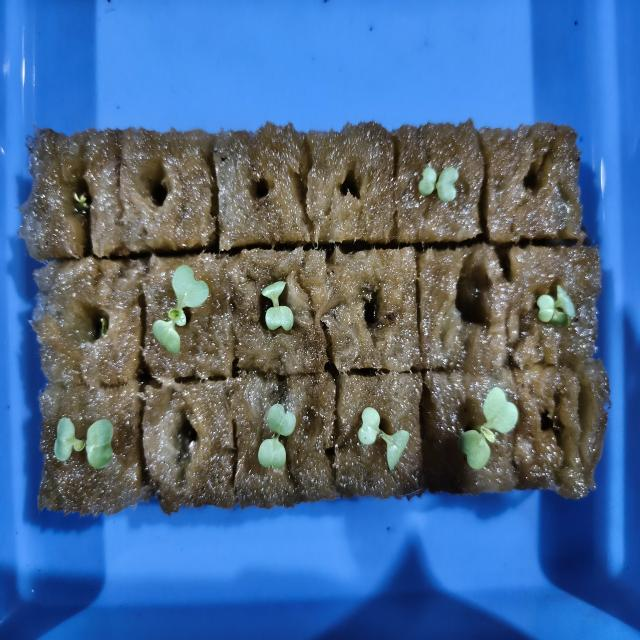daun-pakcoy: (478, 387, 518, 442), (168, 265, 209, 318), (251, 434, 286, 479), (85, 419, 113, 469), (54, 417, 84, 461), (458, 429, 490, 469), (152, 309, 180, 354), (552, 285, 575, 327), (386, 430, 410, 470), (265, 306, 293, 340), (267, 404, 296, 436), (358, 407, 381, 445), (436, 166, 459, 202), (261, 281, 287, 306), (418, 166, 437, 195), (536, 294, 555, 322)
